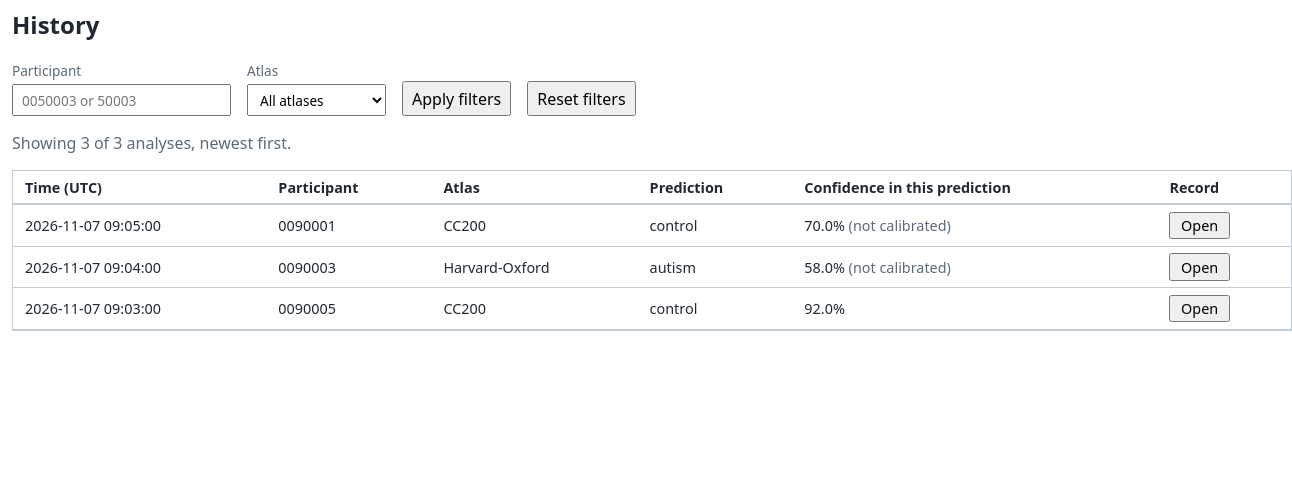
History page › shows the API error in plain words when a record cannot be opened
Click the button with aria-label "Open analysis a1b2c3d4e5f6" at (1200, 226), box [1170,212,1230,239]
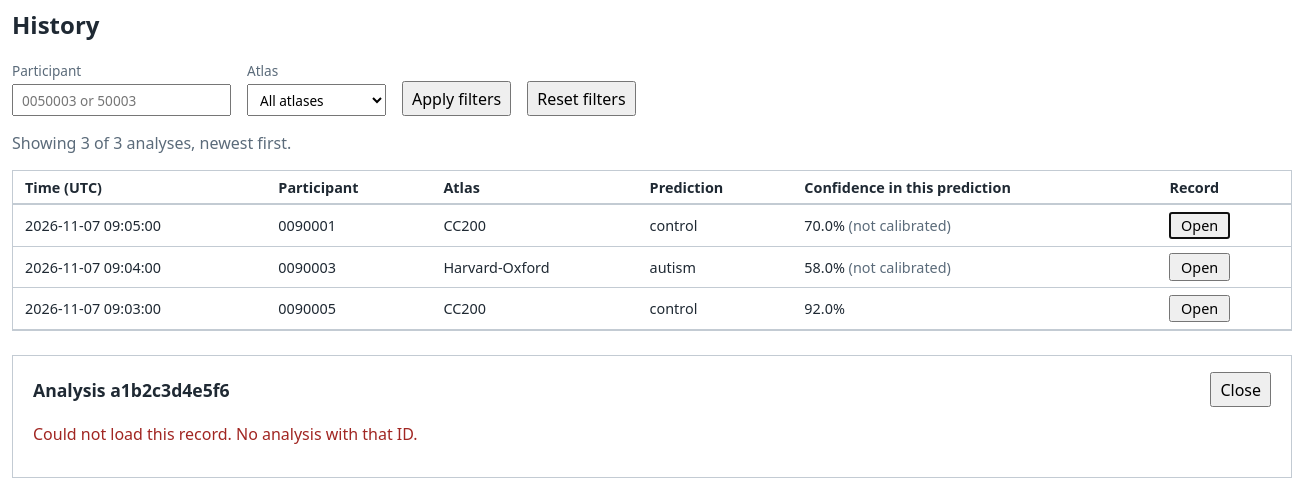
Check: the text "Could not load this record. No analysis with that ID." is shown, box [33,424,418,446]
